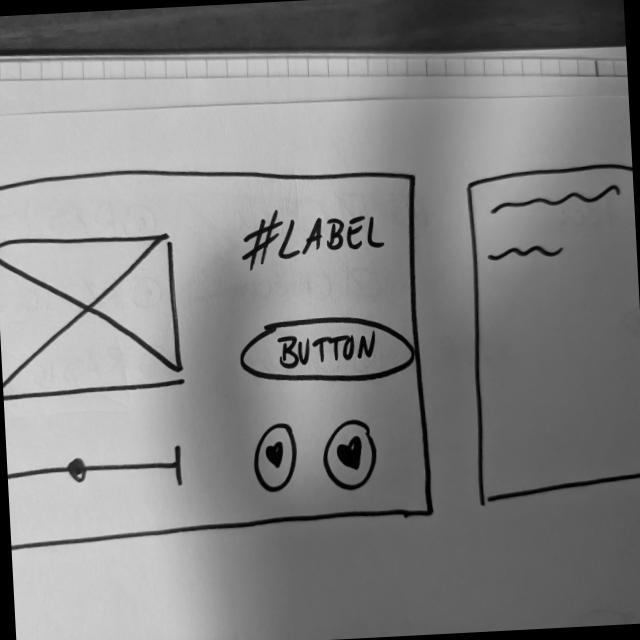button: (237, 310, 418, 392)
container: (1, 151, 440, 564)
icon-button: (322, 418, 383, 494), (251, 420, 304, 497)
image: (1, 227, 189, 406)
label: (239, 203, 388, 277)
slider: (7, 442, 188, 505)
textarea: (459, 162, 640, 509)
